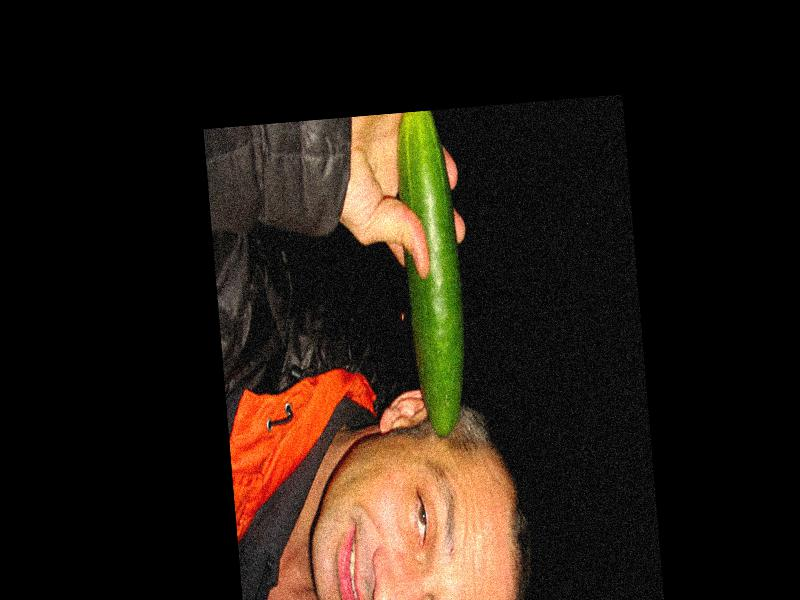Cucumber: (393, 111, 472, 441)
